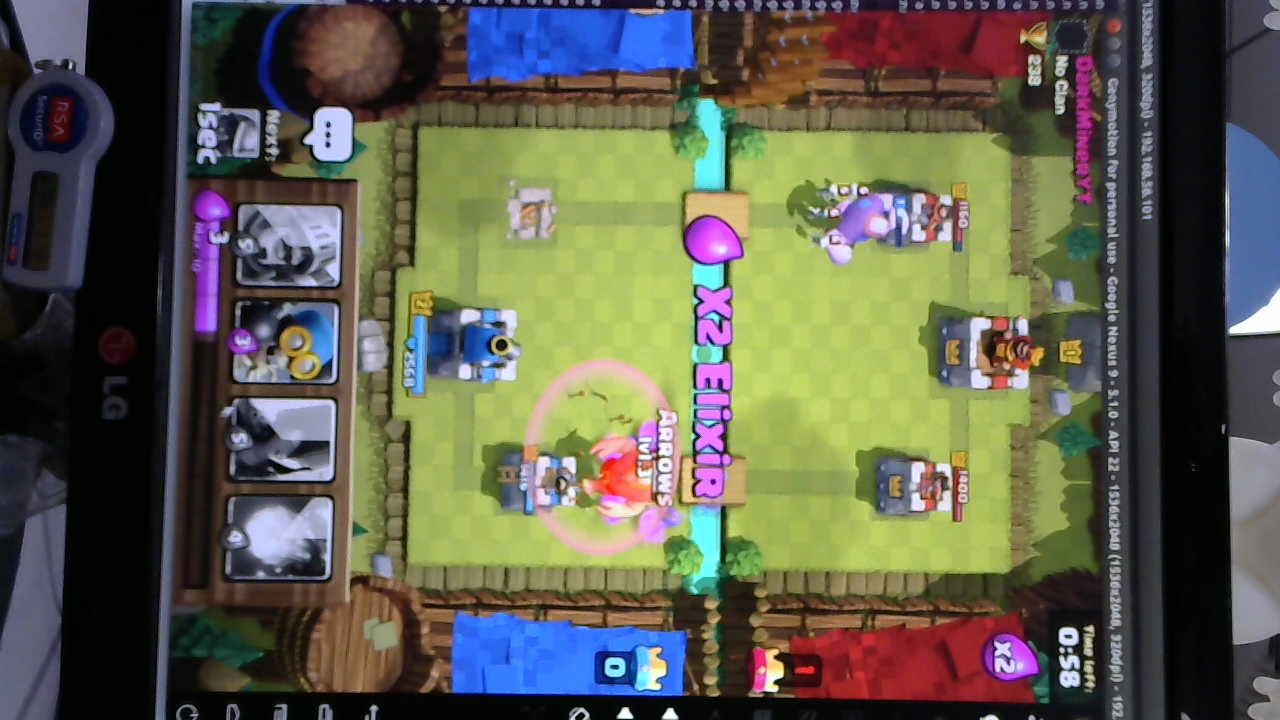arrowL: (536, 365, 680, 552)
